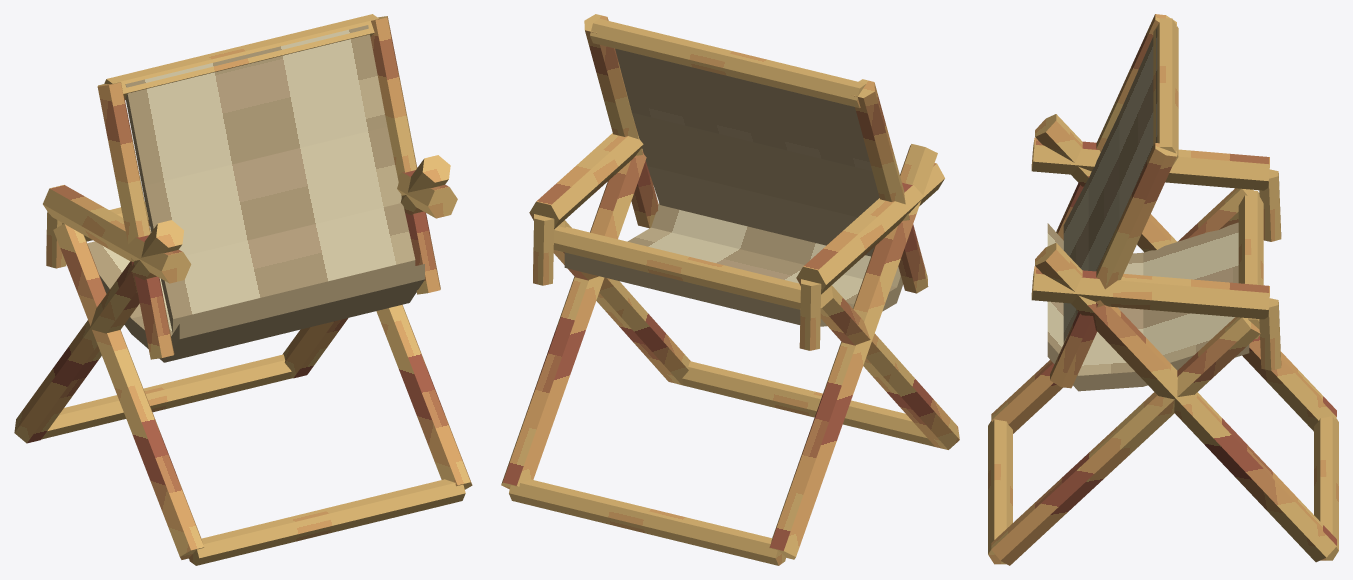
Rendered from folding-chair.glb.
3 views of the same model, side by side, from view 1: azimuth 30°, elevation 25°; view 2: azimuth 150°, elevation 25°; view 3: azimuth 270°, elevation 25° (orthographic).
Parts seen in each view (by area): view 1: folding-chair; view 2: folding-chair; view 3: folding-chair.
Part boxes in pixels (left/top/right/bottom): folding-chair: left=14, top=14, right=472, bottom=565; folding-chair: left=501, top=14, right=959, bottom=565; folding-chair: left=988, top=14, right=1338, bottom=565.
Size of the model in its own units: 0.676 by 0.9216 by 0.7.
1 material, 1 textured.
